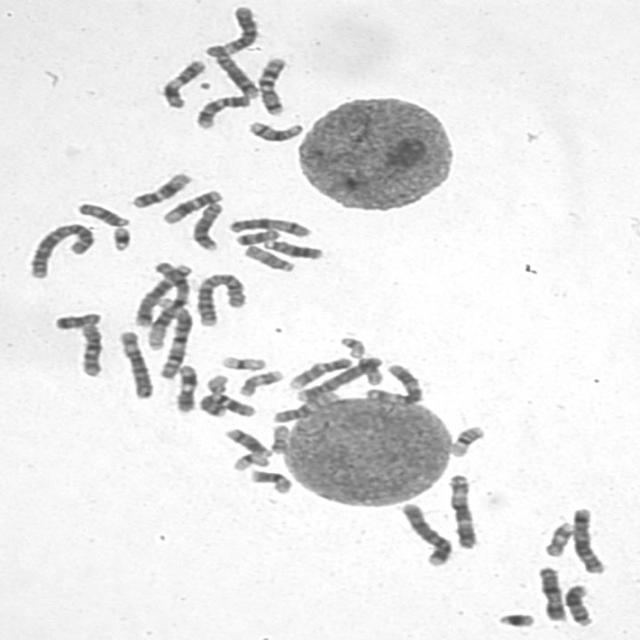A1: (141, 258, 194, 354), (148, 294, 193, 380)
A2: (24, 219, 96, 280), (191, 270, 249, 328)
A3: (444, 470, 481, 550), (360, 361, 424, 406)
B4: (290, 353, 385, 403), (396, 500, 454, 568)
B5: (129, 260, 194, 329), (567, 504, 608, 576)
C10: (268, 388, 342, 424), (73, 321, 105, 378)
C11: (157, 56, 208, 110), (170, 361, 199, 414)
C12: (127, 170, 194, 210), (158, 186, 225, 225)
C6: (200, 2, 261, 57), (114, 327, 155, 400)
C7: (252, 54, 290, 117), (194, 390, 258, 419)
C8: (204, 46, 262, 99), (187, 200, 226, 252)
C9: (284, 354, 353, 390), (191, 92, 252, 130)
D13: (560, 582, 596, 628), (258, 236, 324, 260)
D14: (220, 425, 272, 458), (242, 118, 306, 143)
D15: (239, 242, 296, 273), (72, 199, 132, 228)
E16: (444, 422, 487, 458), (245, 467, 294, 495)
E17: (234, 367, 285, 398), (539, 520, 575, 558)
E18: (48, 308, 104, 330), (231, 226, 281, 246)
F19: (215, 352, 268, 372), (227, 449, 271, 472)
F20: (266, 422, 291, 455), (357, 356, 384, 386)
G21: (493, 610, 537, 628), (106, 224, 132, 252)
G22: (334, 333, 368, 359), (201, 371, 231, 395)
X: (224, 213, 314, 239), (532, 564, 568, 622)
